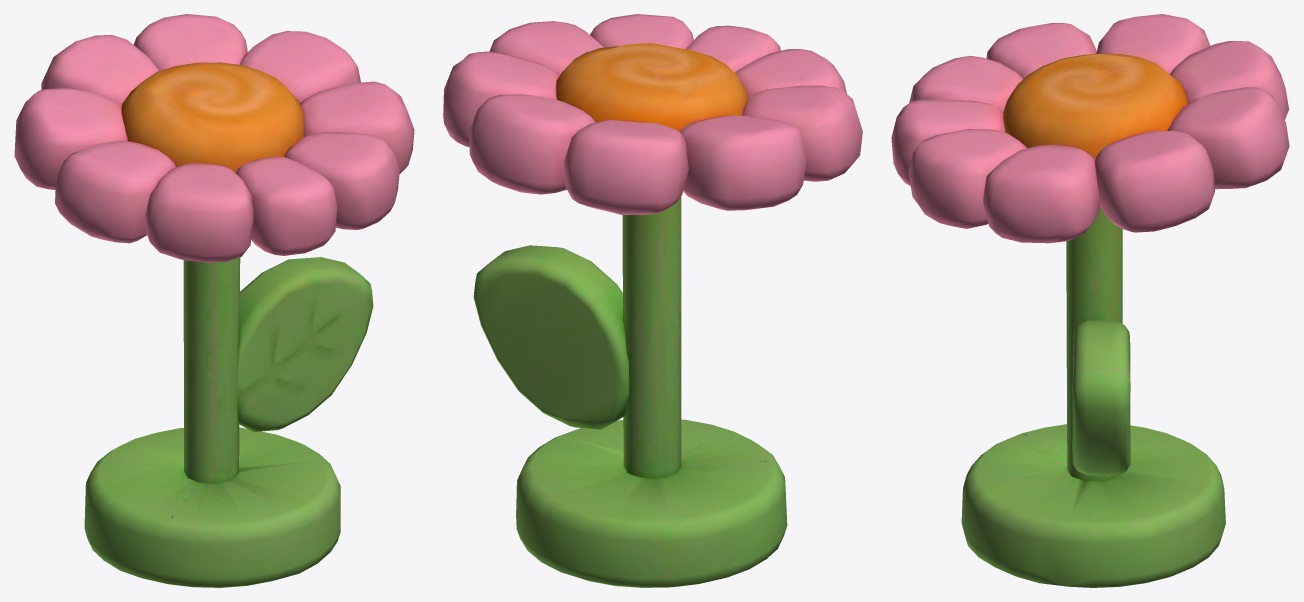
Rendered from flower.glb.
3 views of the same model, side by side, from view 1: azimuth 30°, elevation 25°; view 2: azimuth 150°, elevation 25°; view 3: azimuth 270°, elevation 25° (orthographic). The views are drawn at different scales.
Visible parts, largest first — view 1: geometry_0; view 2: geometry_0; view 3: geometry_0.
Boxes of the visible parts, left/top/right/bottom form: geometry_0: left=14, top=14, right=414, bottom=587; geometry_0: left=443, top=14, right=862, bottom=587; geometry_0: left=891, top=14, right=1289, bottom=587.
Bounding box in the file's own units: 0.7921 × 1 × 0.7831.
Materials: 1 (1 with a texture image).
